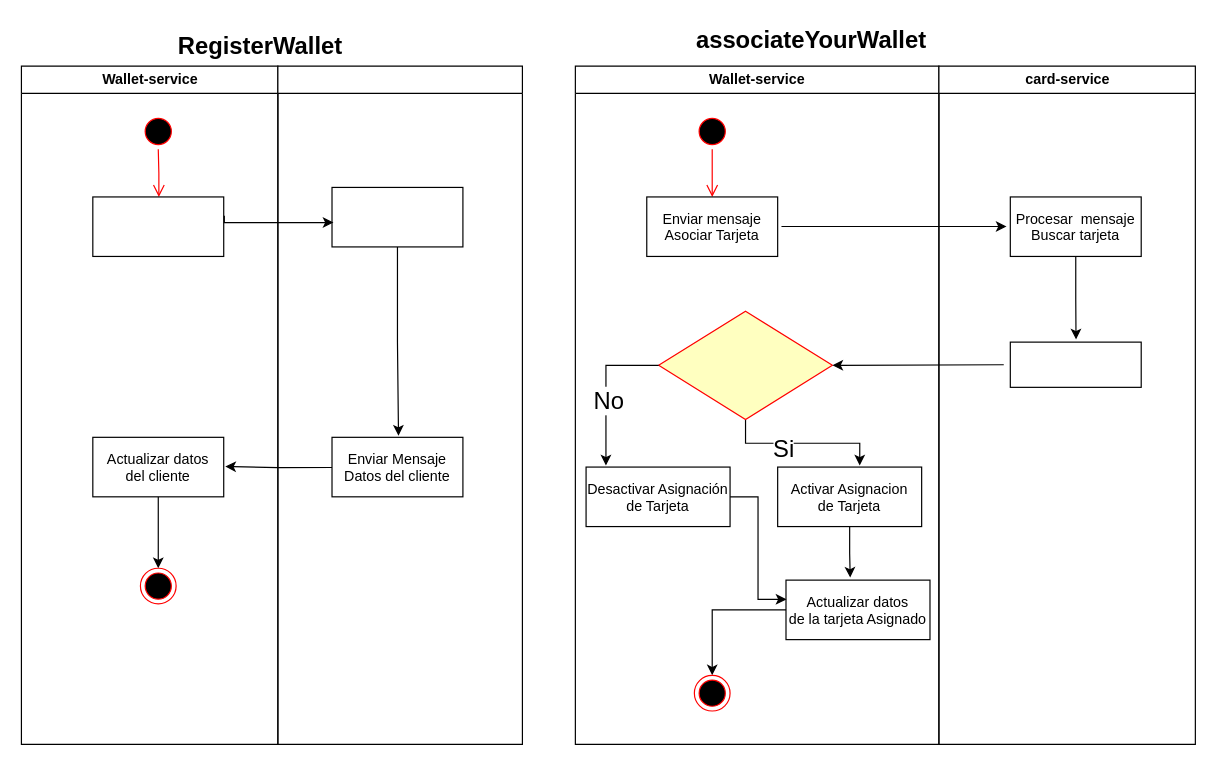
Image size: 1216x765. Some labels were removed from this diagram. Here are the shapes that lost their labels. From the top down, the box of each, then its label:
(92, 196, 224, 256): Enviar mensaje Crear Cliente
(331, 186, 463, 247): Registrar/Actualizar cliente
(657, 310, 832, 419): Tarjeta Encontrada?
(1009, 341, 1141, 387): Enviar Mensaje
(277, 65, 522, 744): customer-service
